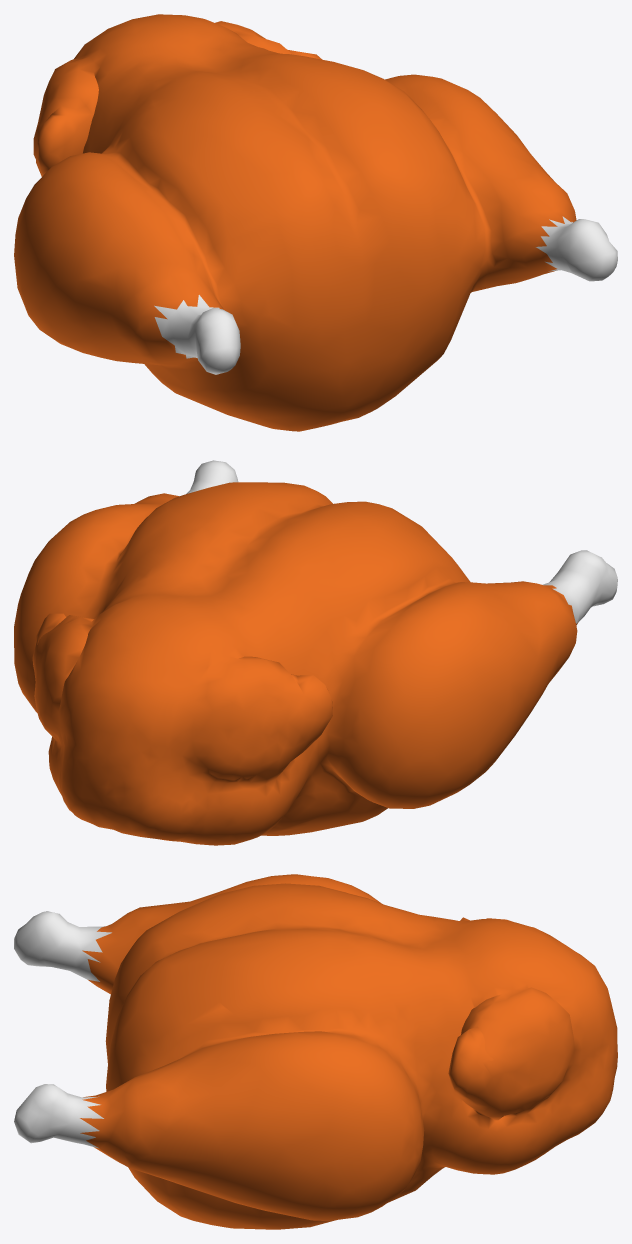
Rendered from PolloCocinao.fbx.
3 renders of one model, top to bottom at view 1: azimuth 30°, elevation 25°; view 2: azimuth 150°, elevation 25°; view 3: azimuth 270°, elevation 25°, orthographic. The views are drawn at different scales.
Visible parts, largest first — view 1: Chicken; view 2: Chicken; view 3: Chicken.
Boxes of the visible parts, box(x1,y1,x2,y2) form: Chicken: box(14, 14, 617, 431); Chicken: box(14, 460, 617, 845); Chicken: box(14, 874, 617, 1229).
Size of the model in its own units: 47.26 by 29.31 by 54.45.
